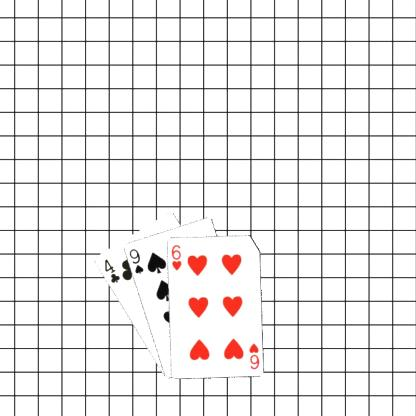4C: (101, 256, 121, 284)
6H: (246, 340, 261, 370), (168, 242, 182, 272)
9S: (126, 246, 145, 276)
